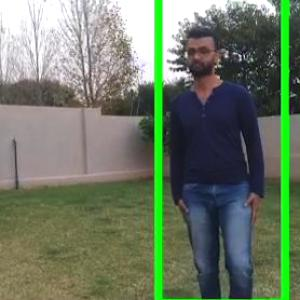follow: (166, 22, 270, 299)
